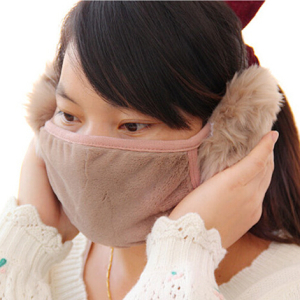face_mask: (47, 33, 194, 244)
